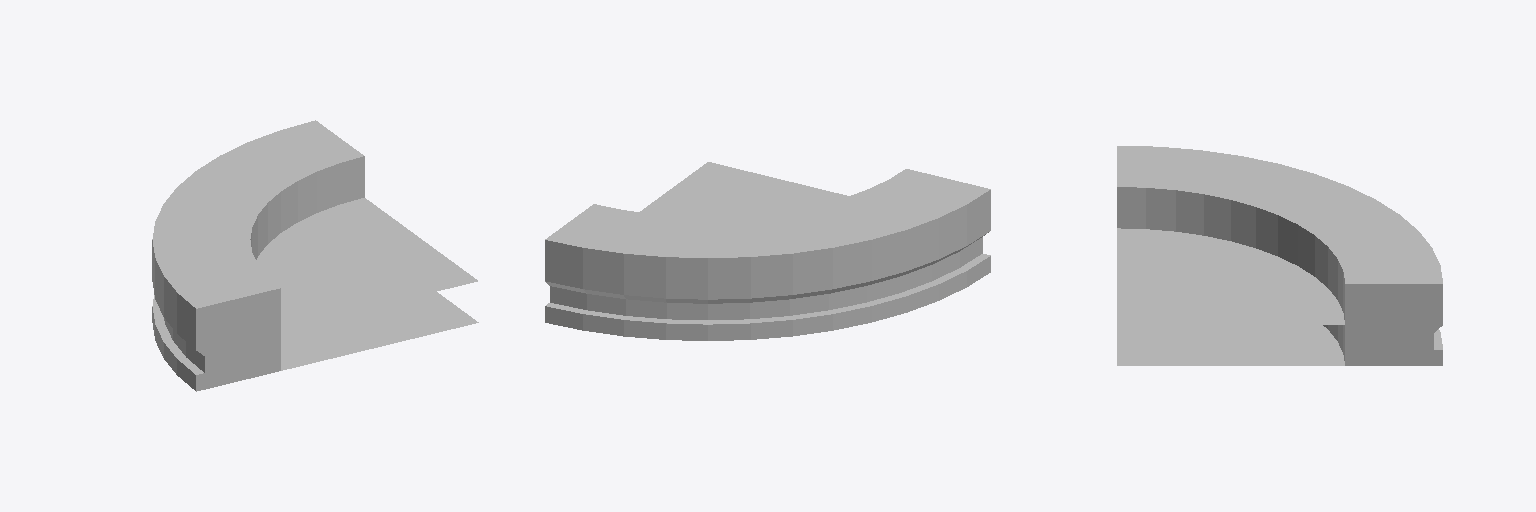
Rendered from fountainCurved.obj.
3 views of the same model, side by side, from view 1: azimuth 30°, elevation 25°; view 2: azimuth 150°, elevation 25°; view 3: azimuth 270°, elevation 25° (orthographic).
Parts seen in each view (by area): view 1: fountainCurved; view 2: fountainCurved; view 3: fountainCurved.
Boxes of the visible parts, x1,y1,x2,y2 form: fountainCurved: [152, 120, 478, 391]; fountainCurved: [545, 162, 990, 340]; fountainCurved: [1117, 146, 1442, 365].
Bounding box in the file's own units: 1 × 0.28 × 1.